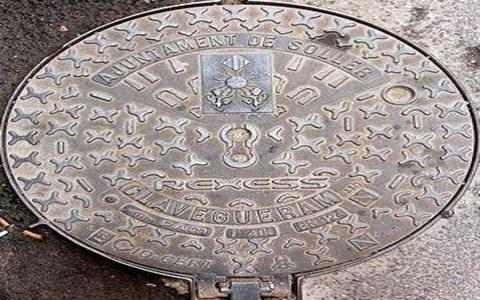proper manhole: (3, 1, 475, 289)
